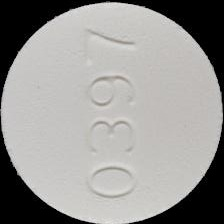42291-232: (0, 0, 224, 224)
